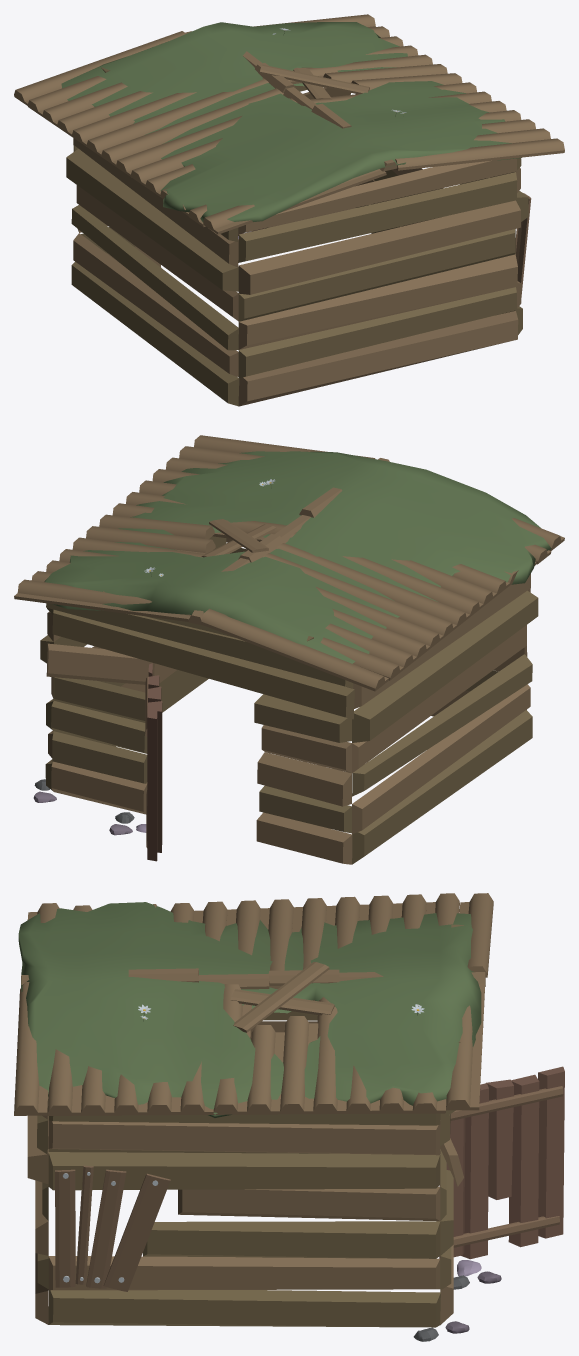
Rendered from P_Shed.fbx.
3 views of the same model, one above another, from view 1: azimuth 30°, elevation 25°; view 2: azimuth 150°, elevation 25°; view 3: azimuth 270°, elevation 25° (orthographic). The views are drawn at different scales.
Parts seen in each view (by area): view 1: lod1; view 2: lod1; view 3: lod1.
Part boxes in pixels (x1,y1,x2,y2): lod1: [14, 14, 564, 406]; lod1: [14, 435, 564, 864]; lod1: [14, 893, 564, 1341].
Size of what is drawn, in the model's own units: 506 by 310 by 553.
Materials: 1 (1 with a texture image).
